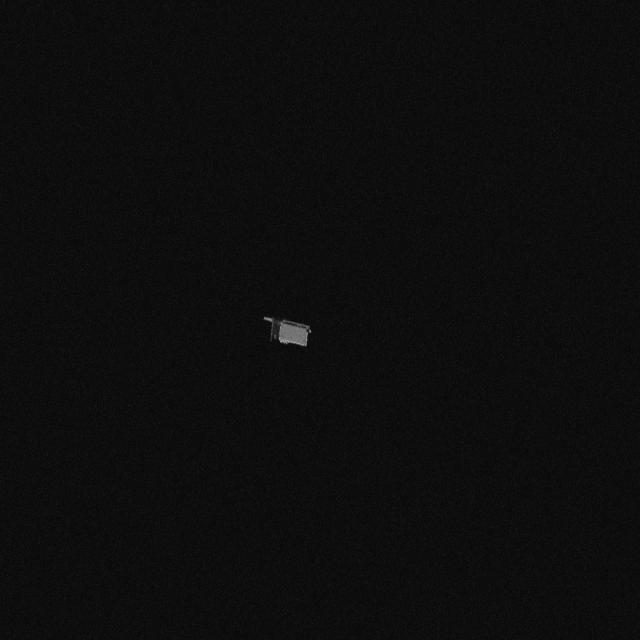satellite: (256, 310, 318, 354)
